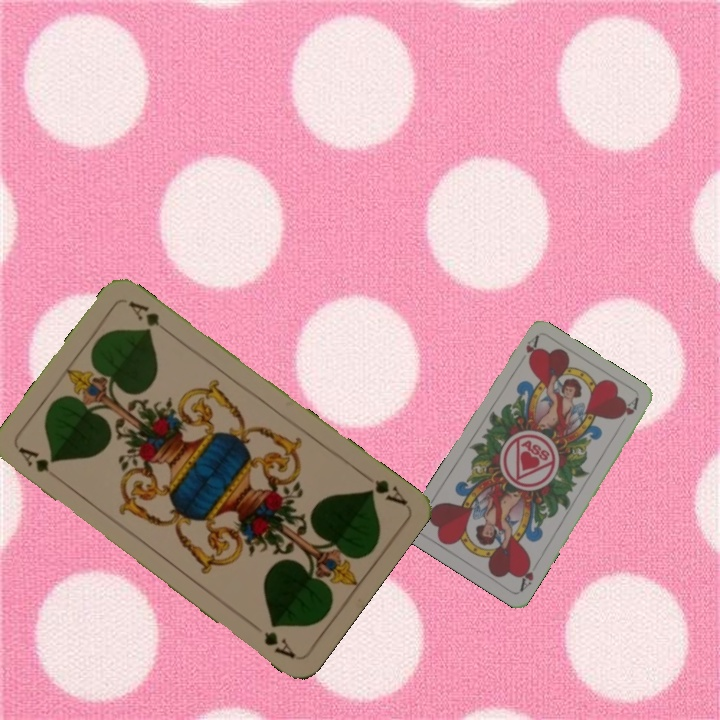GA: (357, 468, 410, 508), (15, 443, 52, 476)
HA: (515, 556, 541, 594), (521, 332, 541, 366)
